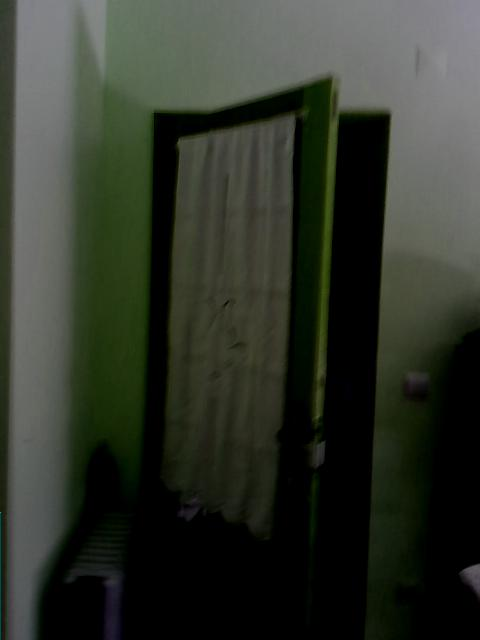semi_door: (144, 72, 392, 639)
